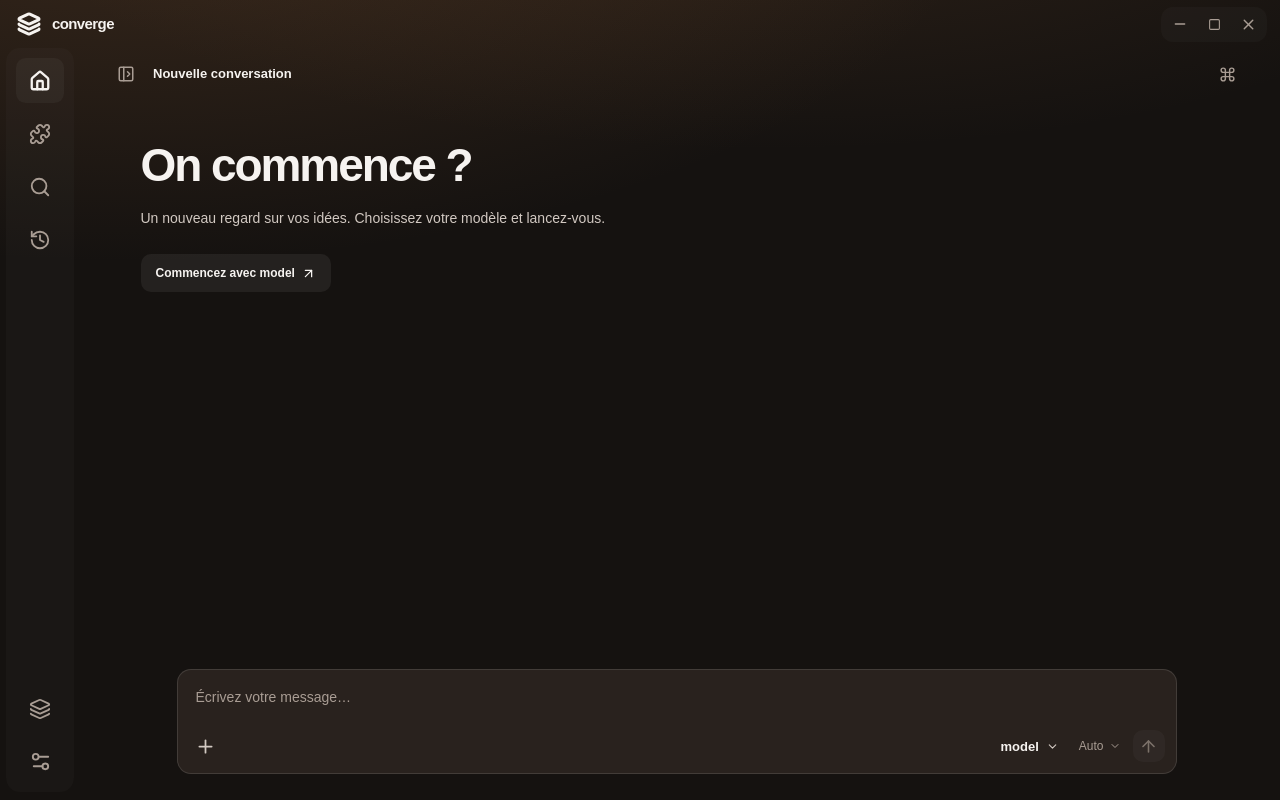
Scenario: executes a large native tool payload directly, including embedded Markdown fences
Type "Crée hello.txt avec hello" into the text box labelled "votre message" at (676, 698), box [178,670,1176,726]
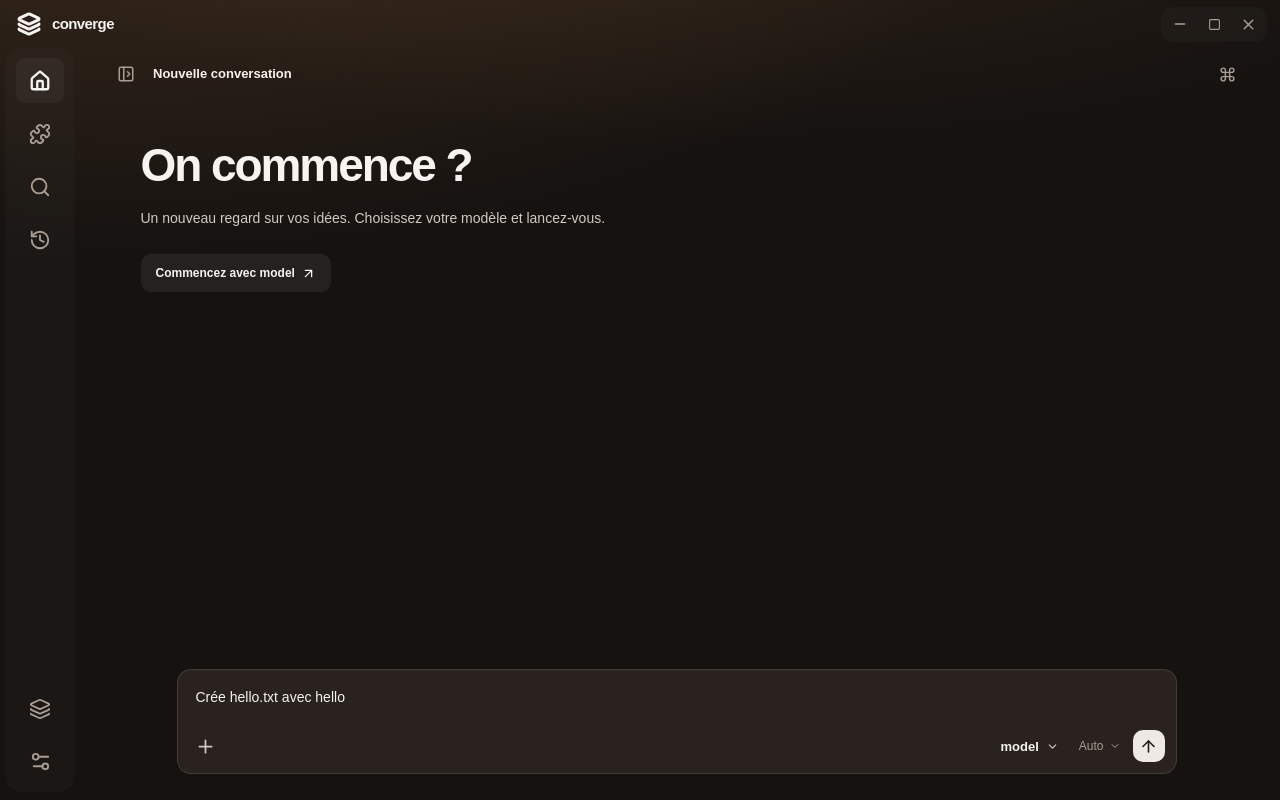
Click the button named "Envoyer" at (1148, 746), box [1132,730,1164,762]
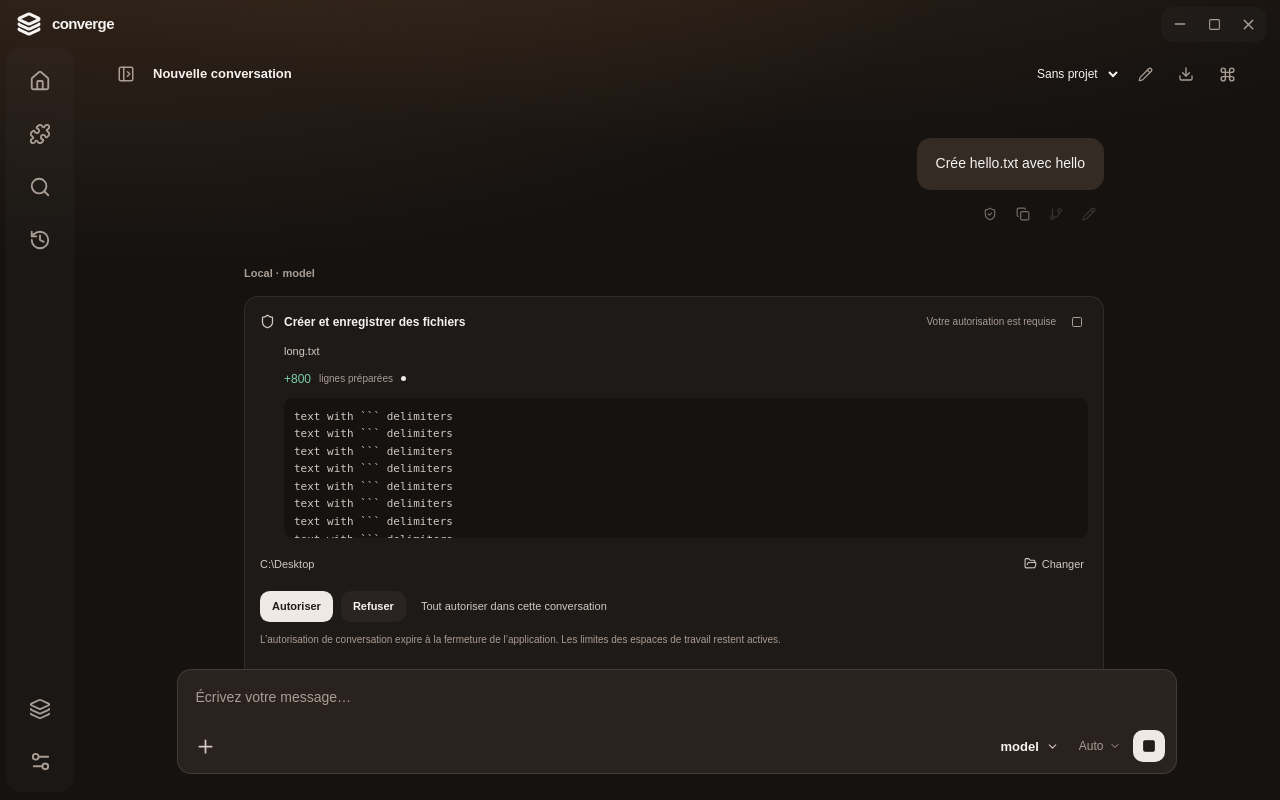
Expected: the button "Autoriser" is shown
Click the button "Autoriser" at (296, 606), box [260,591,332,622]
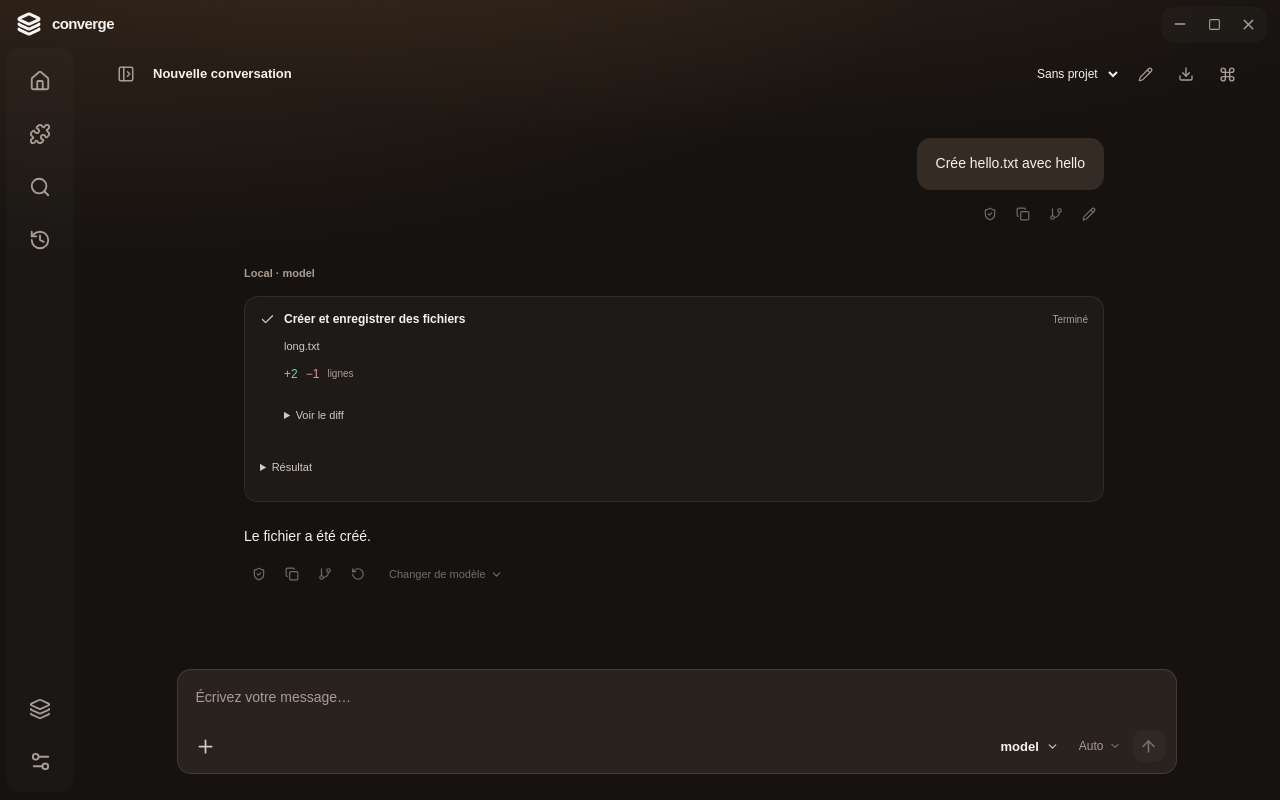
Expected: the text "Le fichier a été créé." is shown, [244,528,370,544]
